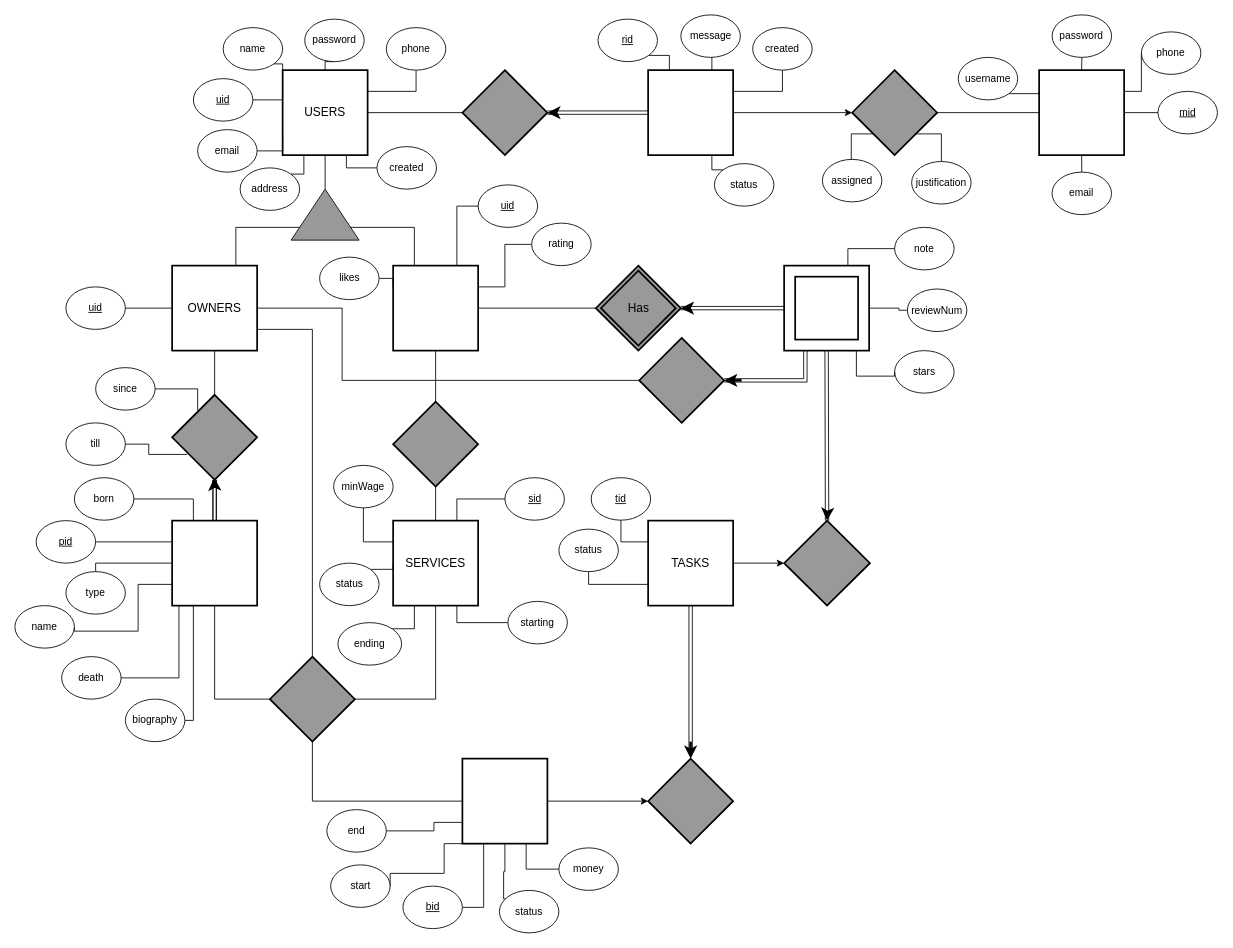
Some shapes in this 1233 by 948 pixel diagram are drawn without their labels. Here are the shapes that lost their labels. From the top down, the centre of each, then its label:
At pixel 504 112: "Sends".
At pixel 690 112: "REQUESTS".
At pixel 894 112: "Handles".
At pixel 1081 112: "MANAGERS".
At pixel 324 214: "ISA".
At pixel 435 307: "CARETAKERS".
At pixel 826 307: "REVIEWS".
At pixel 681 380: "Gives".
At pixel 214 437: "Owns".
At pixel 435 443: "Offers".
At pixel 214 562: "PETS".
At pixel 826 562: "Receives".
At pixel 312 698: "Places".
At pixel 504 800: "BIDS".
At pixel 690 800: "Creates".
